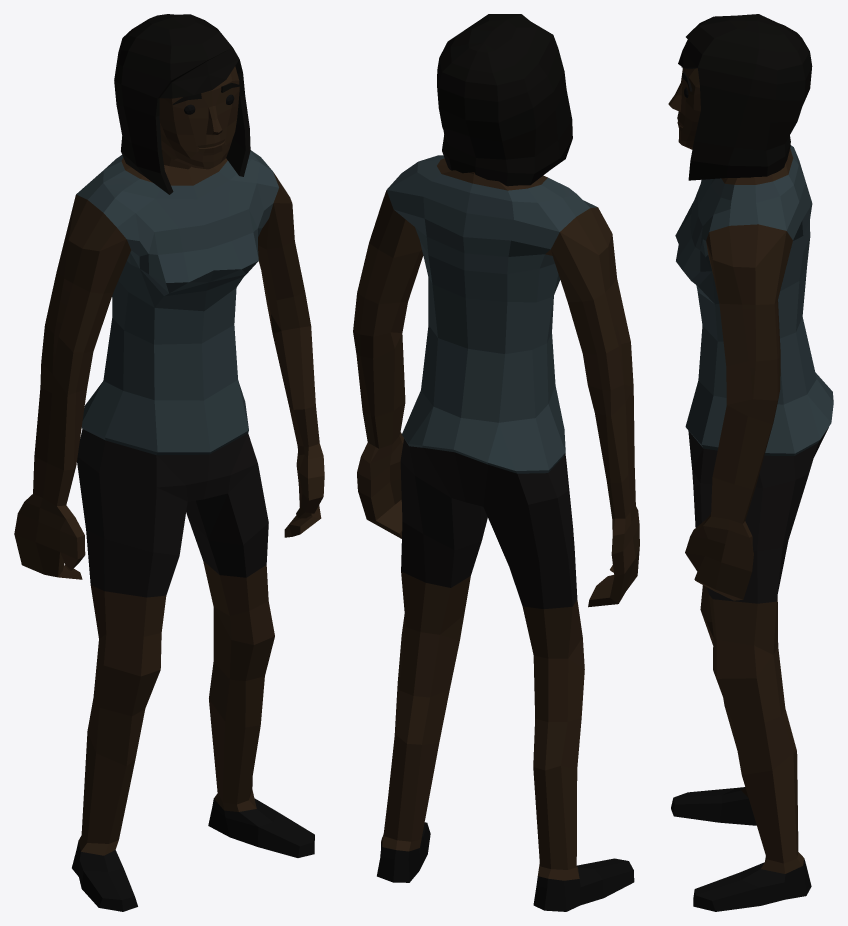
3 renders of one model, left to right at view 1: azimuth 30°, elevation 25°; view 2: azimuth 150°, elevation 25°; view 3: azimuth 270°, elevation 25°, orthographic. The views are drawn at different scales.
Visible parts, largest first — view 1: BaseHuman.000_static; view 2: BaseHuman.000_static; view 3: BaseHuman.000_static.
Boxes of the visible parts, box(x1,y1,x2,y2) form: BaseHuman.000_static: box(14, 14, 324, 911); BaseHuman.000_static: box(353, 14, 639, 911); BaseHuman.000_static: box(668, 14, 833, 911).
Bounding box in the file's own units: 1.62 × 4.66 × 0.8381.
